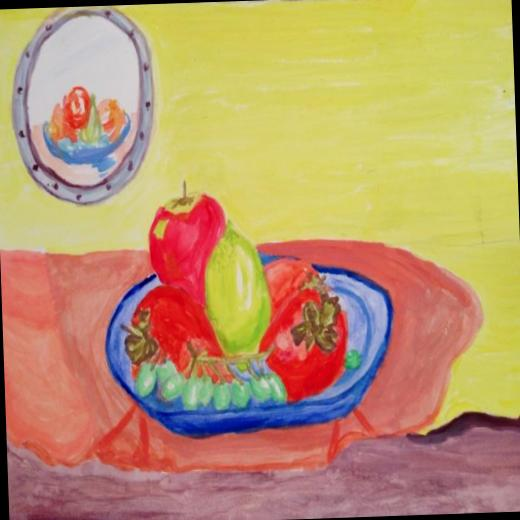Apple: (144, 176, 228, 308)
